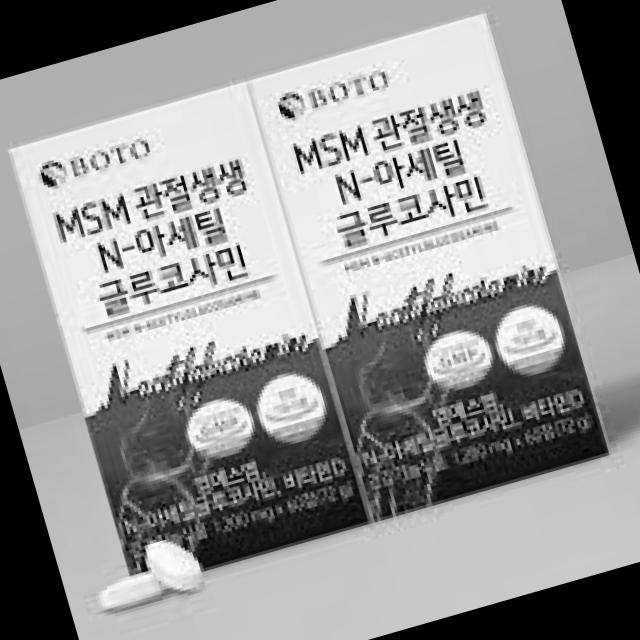GMP: (175, 386, 260, 466), (416, 320, 500, 400)
HEALTHY: (487, 292, 574, 383), (251, 363, 334, 448)
